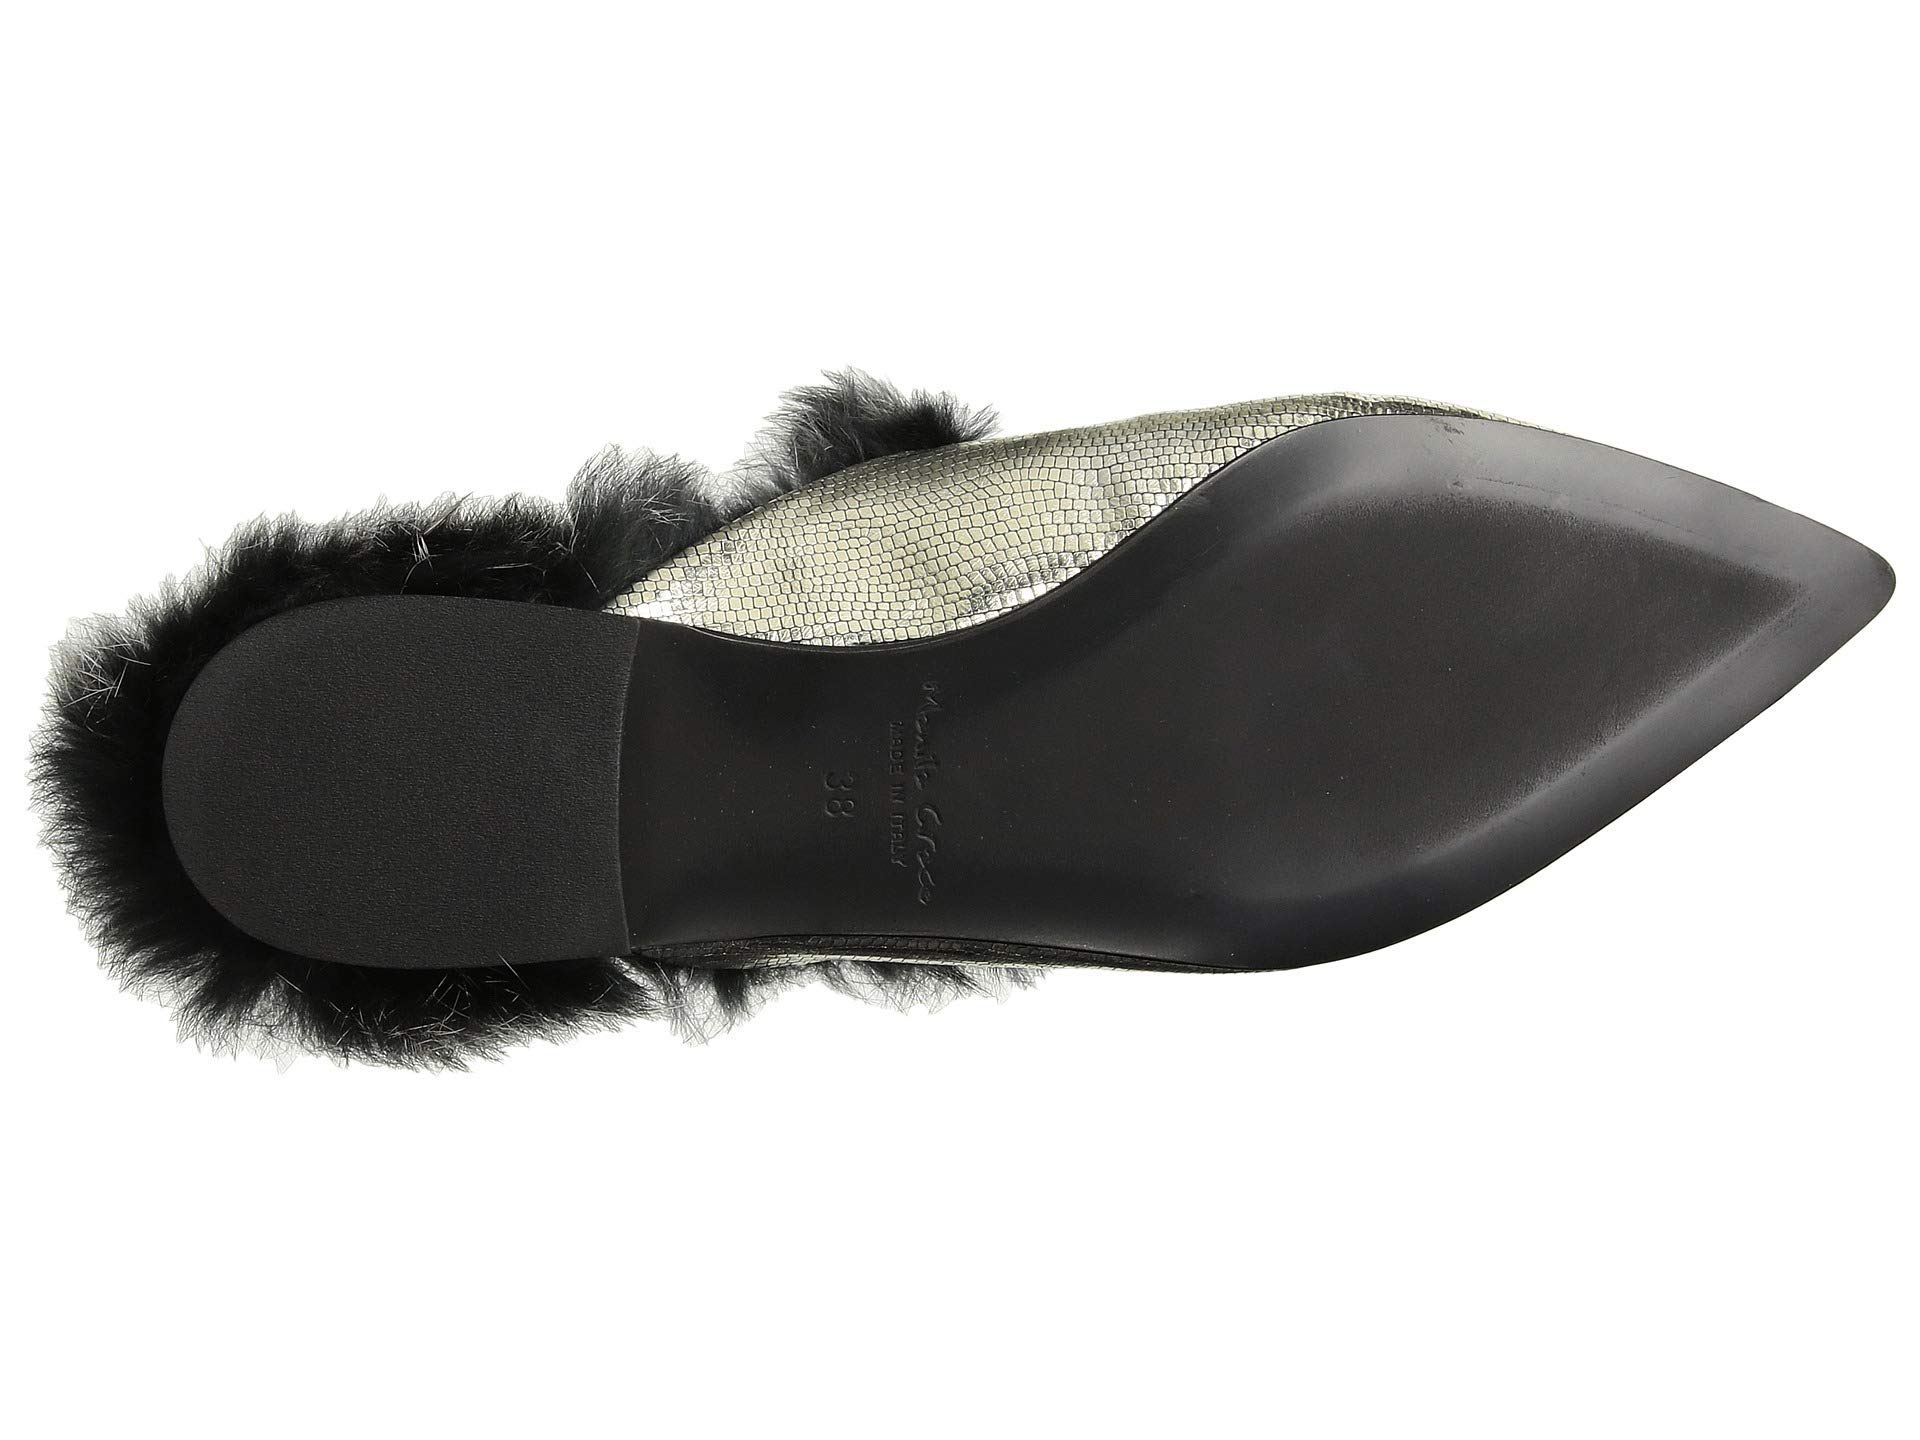text: (739, 669, 1045, 908)
